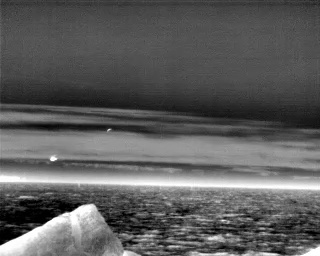HELICOPTER: (47, 152, 60, 165)
